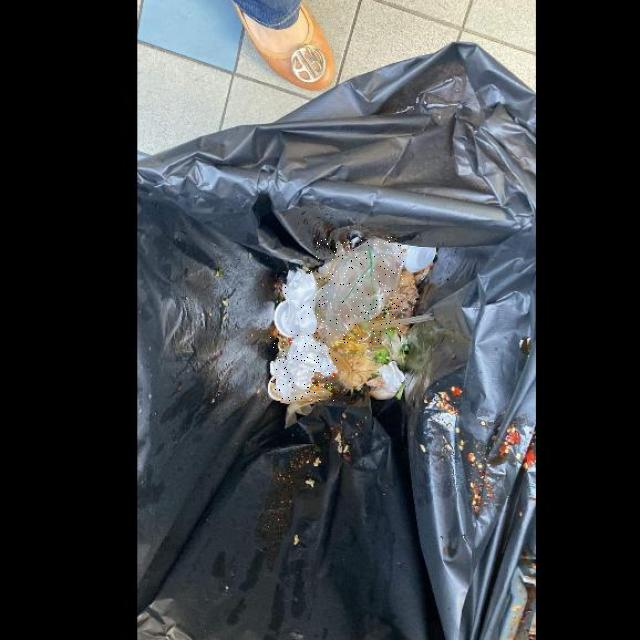paper: (269, 332, 338, 401), (282, 266, 320, 333)
plastic: (315, 237, 404, 344)
